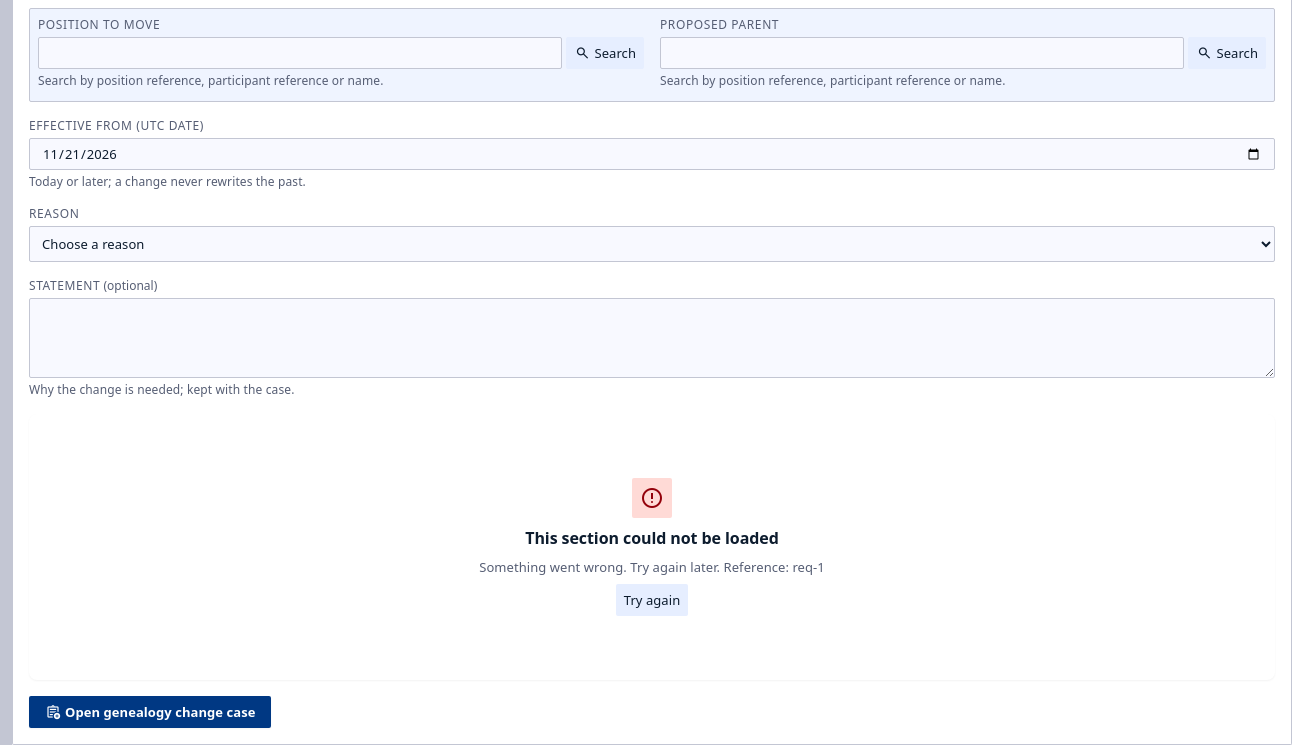
Test: GenealogyCasePage (SC-08 change) › shows a failure with Try again when the evidence rules cannot load, never a missing field
(page scrolled)
Expected: the heading "This section could not be loaded" is shown, [525, 526, 779, 550]
Expected: the field labelled "Evidence" is not shown
Step 1. Click the button "Try again" → (652, 600), box [616, 584, 688, 616]
(page scrolled)
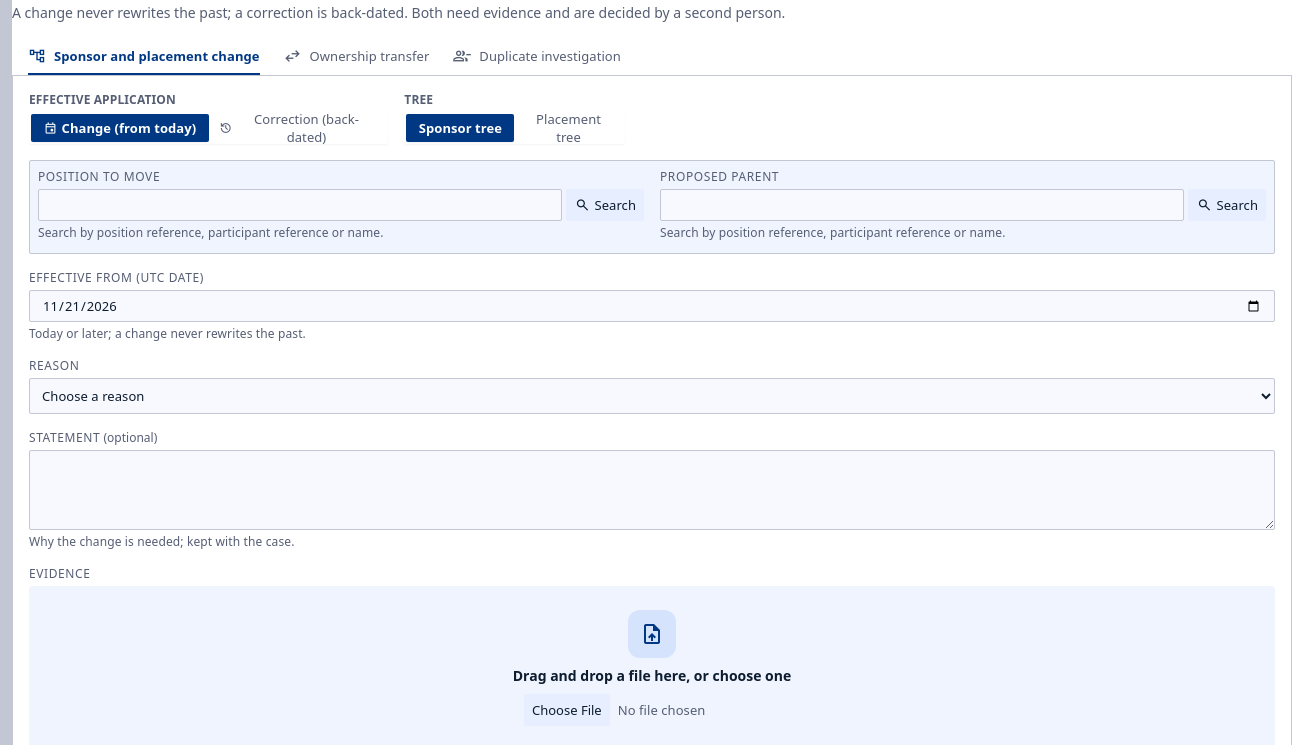
Expected: the file field labelled "Evidence" is shown, [524, 694, 780, 726]
